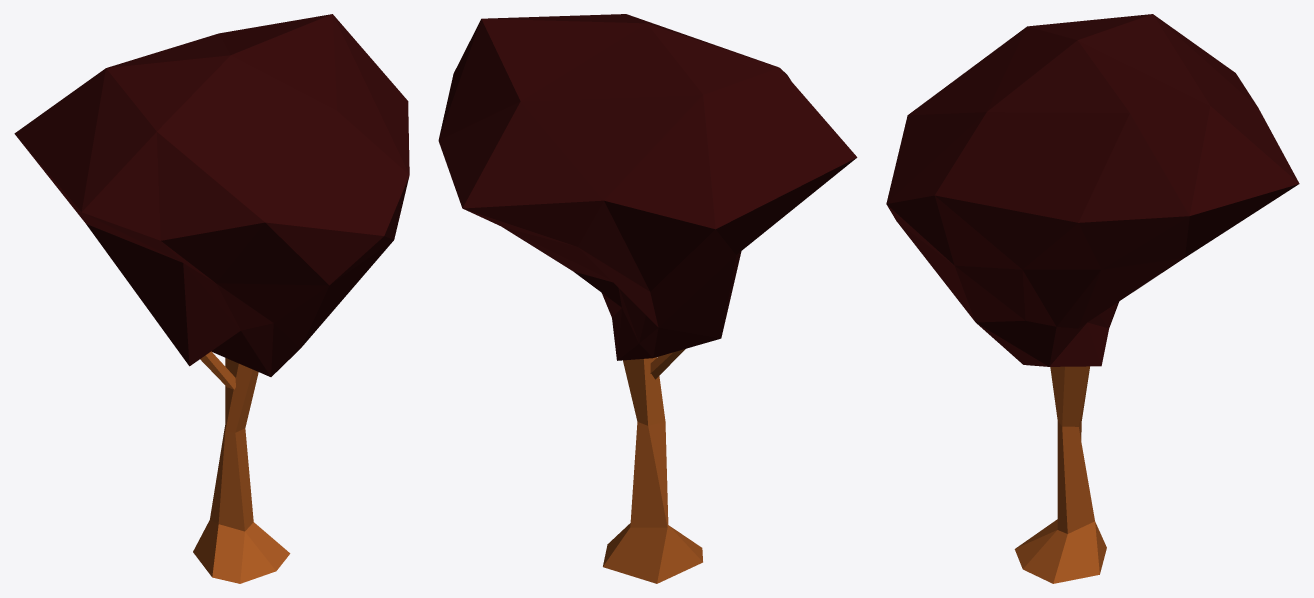
Rendered from Tree03.FBX.
The picture shows the model from 3 angles, left to right: view 1: azimuth 30°, elevation 25°; view 2: azimuth 150°, elevation 25°; view 3: azimuth 270°, elevation 25°; orthographic projection. The views are drawn at different scales.
Parts seen in each view (by area): view 1: Tree002; view 2: Tree002; view 3: Tree002.
Boxes of the visible parts, <box> form: Tree002: <box>14,14,409,583</box>; Tree002: <box>438,14,857,583</box>; Tree002: <box>886,14,1299,583</box>.
Size of the model in its own units: 451 by 618 by 445.
